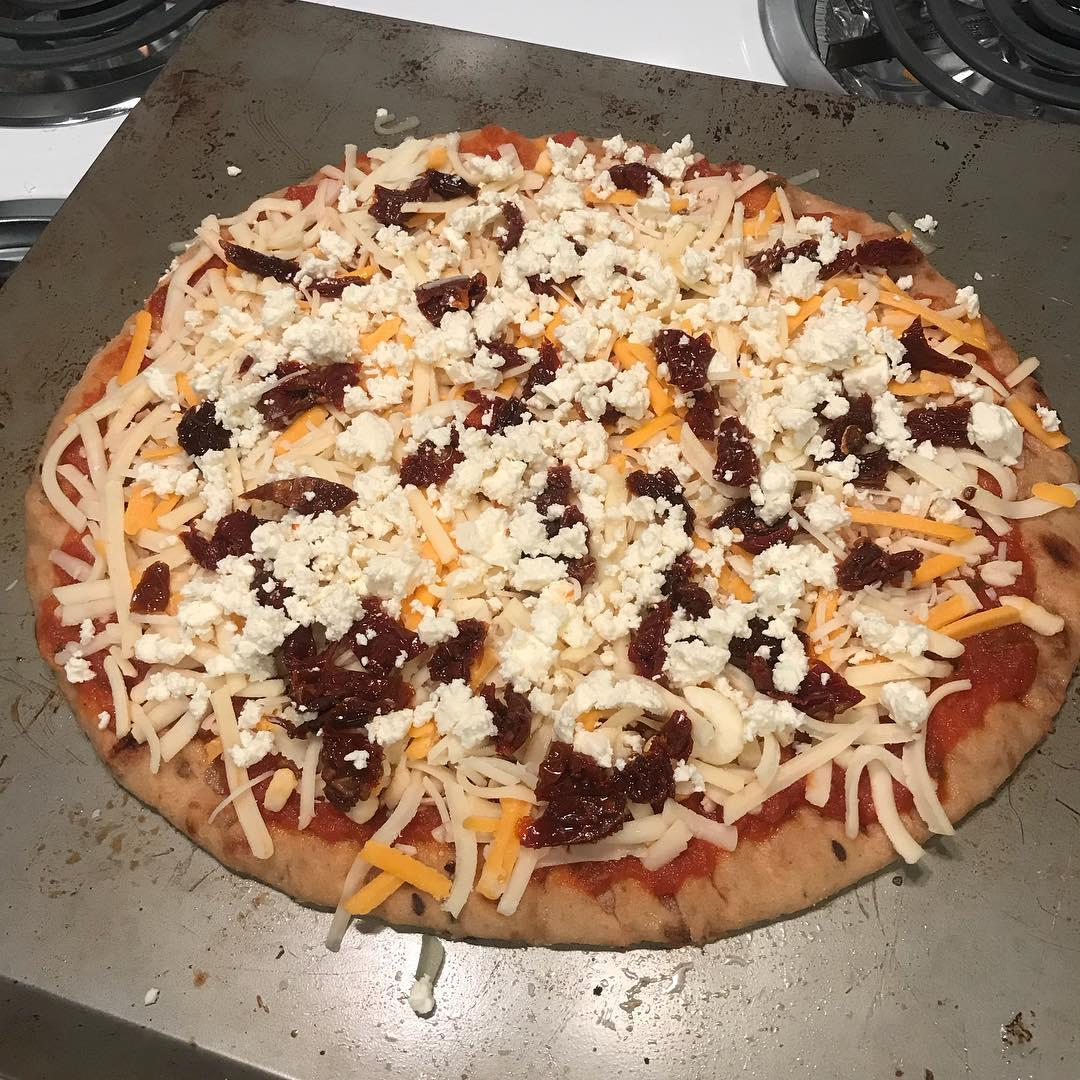Pizza: (21, 117, 1080, 957)
Tomatoes: (264, 594, 424, 805), (515, 706, 702, 859), (184, 468, 364, 571), (723, 610, 869, 723), (618, 547, 720, 681), (642, 324, 724, 449), (250, 350, 367, 433), (530, 456, 602, 582), (460, 338, 562, 426), (808, 388, 887, 498), (364, 170, 490, 224), (829, 530, 928, 598), (474, 672, 538, 771), (393, 417, 464, 500), (885, 307, 969, 377), (705, 493, 803, 553), (807, 235, 924, 285), (399, 268, 497, 324), (426, 607, 490, 692), (622, 467, 700, 535), (215, 238, 308, 294), (901, 395, 979, 458), (739, 234, 829, 284), (118, 558, 183, 624), (714, 409, 767, 484), (598, 155, 677, 202), (174, 393, 231, 458), (301, 261, 381, 306), (243, 555, 300, 616), (483, 198, 527, 254)
